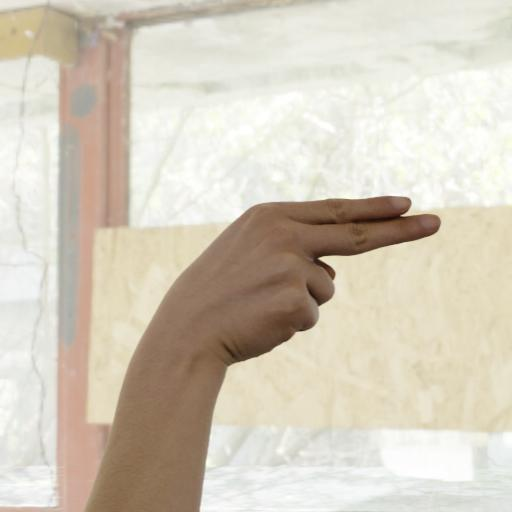H: (139, 163, 473, 401)
